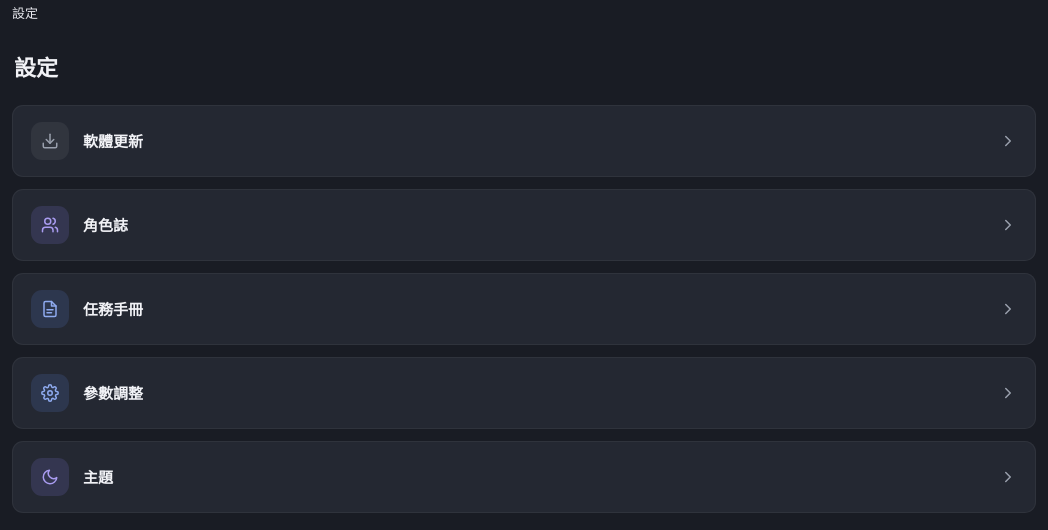
Scenario: SettingsPage · 軟體更新 · 檢查更新 (explicit fresh verdict) › a failed check reports the failure line, never a fabricated verdict
Click the button "軟體更新": (50, 140) x1=12 y1=104 x2=1036 y2=176
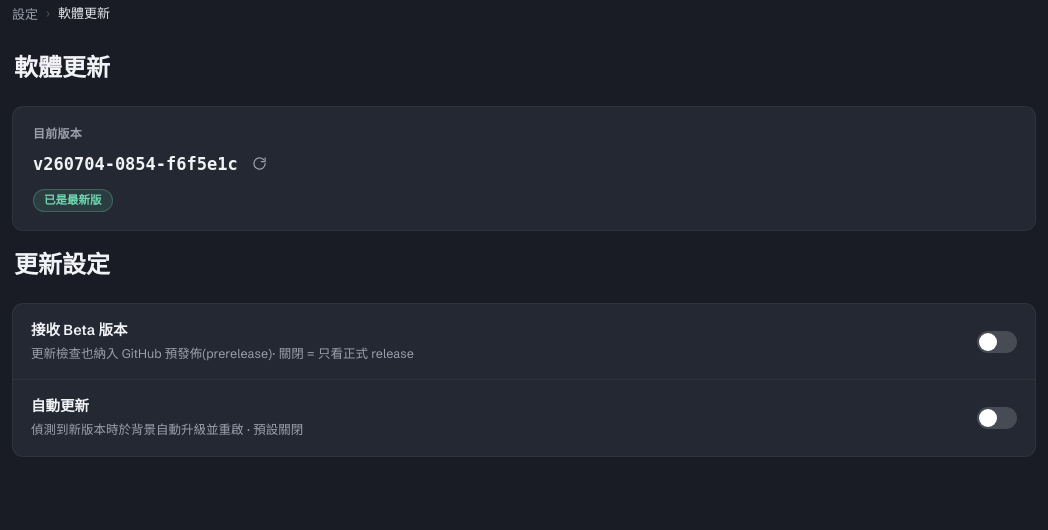
Now the switch with test id "settings-auto-update" is shown, box x1=977 y1=407 x2=1017 y2=429
Click the button with test id "settings-check-release": (260, 164) x1=246 y1=150 x2=274 y2=178
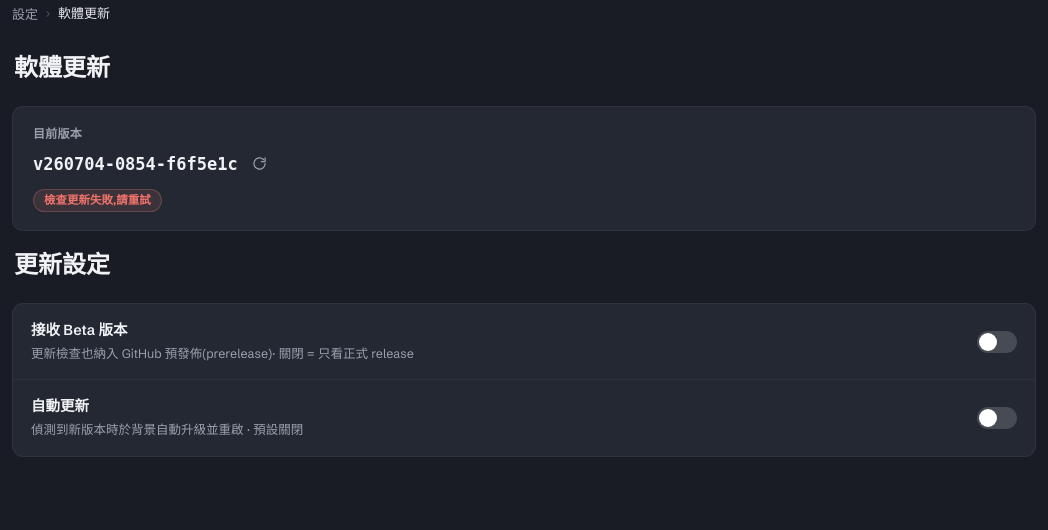
Now the text "檢查更新失敗,請重試" is shown, box x1=33 y1=188 x2=162 y2=212
Now the text "已是最新版" is gone
